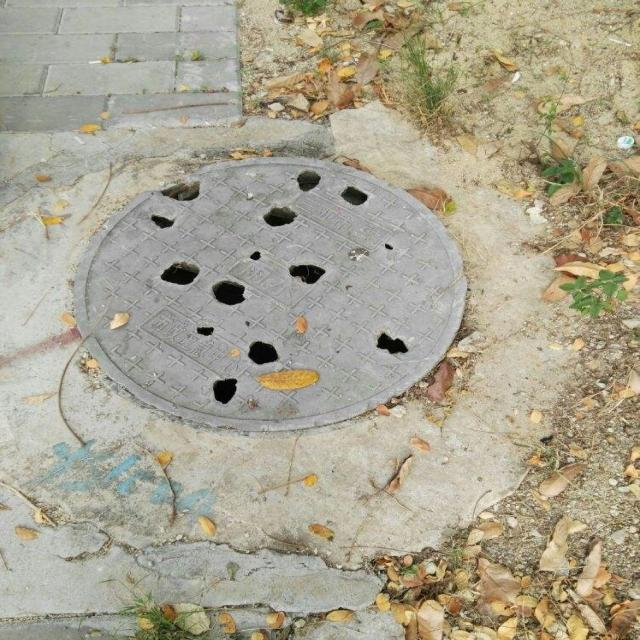Faulty: (72, 155, 467, 431)
